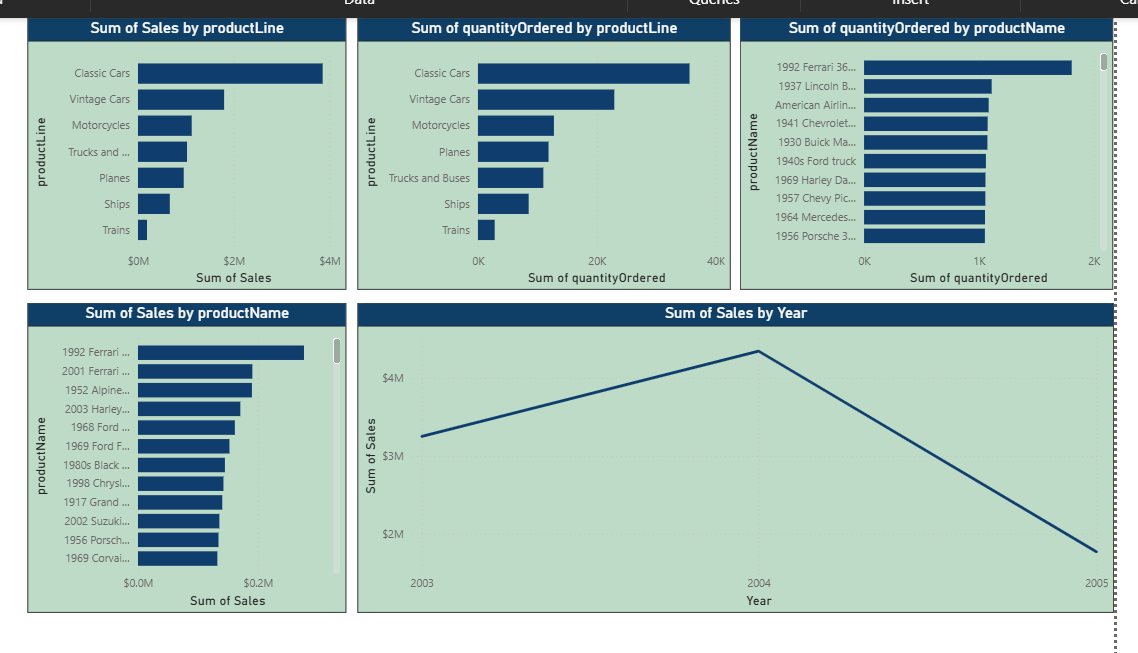

What the dashboard file says about the page in this screenshot:
{"tool":"powerbi","page":{"name":"Page 2","canvas":[1280,720],"ordinal":1},"visuals":[{"type":"actionButton","box":[0,0,55,55],"z":0},{"type":"clusteredBarChart","fields":{"Category":["productlines.productLine"],"Y":["Sum(order detailes.Sales)"]},"box":[81.7,0,351.7,300],"z":1000},{"type":"clusteredBarChart","fields":{"Category":["productlines.productLine"],"Y":["Sum(order detailes.quantityOrdered)"]},"box":[445,0,411.7,300],"z":2000},{"type":"clusteredBarChart","fields":{"Y":["Sum(order detailes.quantityOrdered)"],"Category":["products.productName"]},"box":[868.3,0,411.7,300],"z":3000},{"type":"clusteredBarChart","fields":{"Category":["products.productName"],"Y":["Sum(order detailes.Sales)"]},"box":[81.7,315,351.7,341.7],"z":4000},{"type":"lineChart","fields":{"Category":["orders.orderDate.Variation.Date Hierarchy.Year","orders.orderDate.Variation.Date Hierarchy.Quarter","orders.orderDate.Variation.Date Hierarchy.Month","orders.orderDate.Variation.Date Hierarchy.Day"],"Y":["Sum(order detailes.Sales)"]},"box":[445,315,835,341.7],"z":5000}]}

Visuals, with their boxes on the page's 1280x720 design canvas (x1, y1, x2, y2). These are canvas units, not pixel positions in the 1138x653 screenshot, which may show the page scaled, cropped or inside an application window:
actionButton: {"left": 0, "top": 0, "right": 55, "bottom": 55}
clusteredBarChart - productlines.productLine x Sum(order detailes.Sales): {"left": 82, "top": 0, "right": 433, "bottom": 300}
clusteredBarChart - productlines.productLine x Sum(order detailes.quantityOrdered): {"left": 445, "top": 0, "right": 857, "bottom": 300}
clusteredBarChart - Sum(order detailes.quantityOrdered) x products.productName: {"left": 868, "top": 0, "right": 1280, "bottom": 300}
clusteredBarChart - products.productName x Sum(order detailes.Sales): {"left": 82, "top": 315, "right": 433, "bottom": 657}
lineChart - orders.orderDate.Variation.Date Hierarchy.Year x orders.orderDate.Variation.Date Hierarchy.Quarter: {"left": 445, "top": 315, "right": 1280, "bottom": 657}
